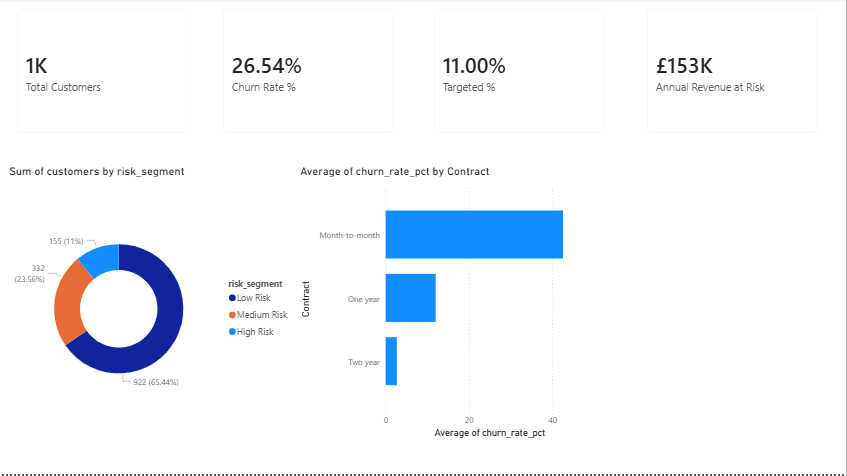

The page's visual inventory and layout, read from the dashboard file:
{"tool":"powerbi","page":{"name":"Executive Overview","canvas":[1280,720],"ordinal":0},"visuals":[{"type":"cardVisual","fields":{"Data":["telco_churn v_kpi_scored.Total Customers"]},"box":[10.1,0,290.6,221.7],"z":0},{"type":"cardVisual","fields":{"Data":["telco_churn v_kpi_scored.Churn Rate %"]},"box":[322.5,0,290.6,221.7],"z":1000},{"type":"cardVisual","fields":{"Data":["telco_churn v_kpi_scored.Targeted %"]},"box":[640,0,290.6,221.7],"z":2000},{"type":"cardVisual","fields":{"Data":["telco_churn v_kpi_scored.Annual Revenue at Risk"]},"box":[962.5,0,290.6,221.7],"z":3000},{"type":"donutChart","fields":{"Category":["telco_churn v_risk_distribution.risk_segment"],"Y":["Sum(telco_churn v_risk_distribution.customers)"]},"box":[10.6,250.9,439.8,418.6],"z":4000},{"type":"barChart","fields":{"Y":["Avg(telco_churn v_churn_by_contract_scored.churn_rate_pct)"],"Category":["telco_churn v_churn_by_contract_scored.Contract"]},"box":[450.3,250.9,460.9,418.6],"z":5000}]}

Visuals, with their boxes in screenshot pixels (x1, y1, x2, y2), scaled from the page's 1280x720 canvas onto the 847x476 screenshot:
cardVisual - telco_churn v_kpi_scored.Total Customers: rect(7, 0, 199, 147)
cardVisual - telco_churn v_kpi_scored.Churn Rate %: rect(213, 0, 406, 147)
cardVisual - telco_churn v_kpi_scored.Targeted %: rect(424, 0, 616, 147)
cardVisual - telco_churn v_kpi_scored.Annual Revenue at Risk: rect(637, 0, 829, 147)
donutChart - telco_churn v_risk_distribution.risk_segment x Sum(telco_churn v_risk_distribution.customers): rect(7, 166, 298, 443)
barChart - Avg(telco_churn v_churn_by_contract_scored.churn_rate_pct) x telco_churn v_churn_by_contract_scored.Contract: rect(298, 166, 603, 443)
